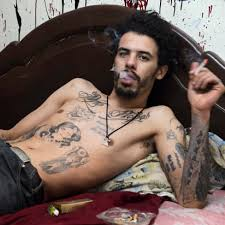middle_eastern_male: (113, 24, 163, 90)
